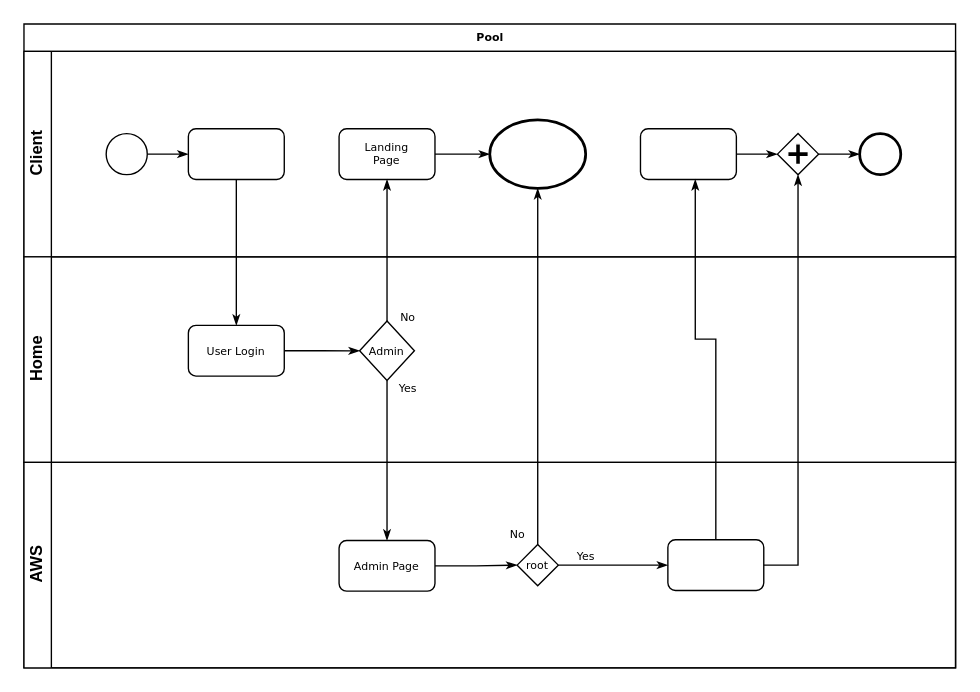
Some shapes in this 980 by 692 pixel diagram are drawn without their labels. The shapes that lost their labels are listed below. From the top down, each one's box as (x1, y1, x2, y2) in pixels, then its label:
(105, 132, 147, 175): Host
(187, 127, 284, 179): HTTPS Client
(488, 118, 586, 189): Records
(667, 538, 764, 590): SIEM
